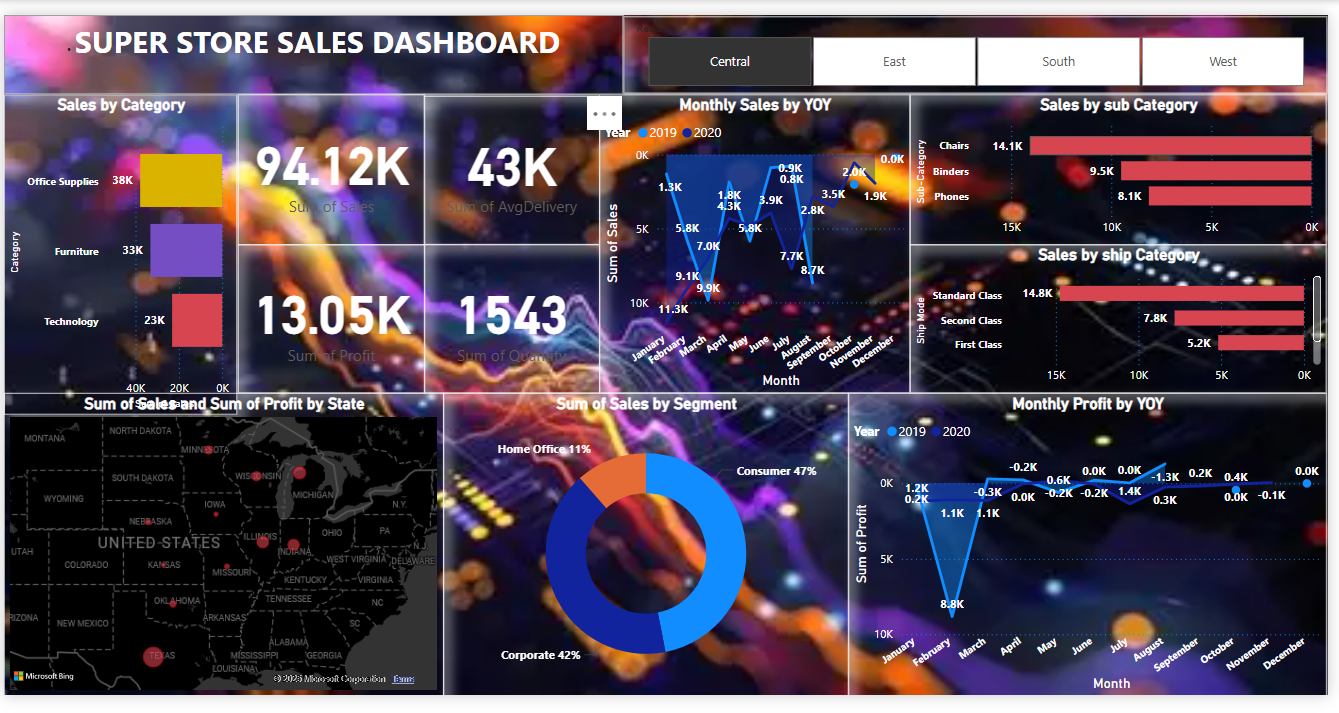

Layout of this report page (visuals, bound fields, positions):
{"tool":"powerbi","page":{"name":"Page 1","canvas":[1401,720],"ordinal":0},"visuals":[{"type":"clusteredBarChart","title":" Sales by Category","fields":{"Category":["SuperStore_Sales_Dataset.Category"],"Y":["Sum(SuperStore_Sales_Dataset.Sales)"]},"box":[0,83.7,246.9,338.8],"z":0},{"type":"clusteredBarChart","title":" Sales by sub Category","fields":{"Y":["Sum(SuperStore_Sales_Dataset.Sales)"],"Category":["SuperStore_Sales_Dataset.Sub-Category"]},"box":[959.2,83.7,440.8,159.2],"z":1000},{"type":"clusteredBarChart","title":" Sales by ship Category","fields":{"Y":["Sum(SuperStore_Sales_Dataset.Sales)"],"Category":["SuperStore_Sales_Dataset.Ship Mode"]},"box":[959.2,242.9,440.8,157.1],"z":2000},{"type":"areaChart","title":"Monthly Sales by YOY ","fields":{"Category":["SuperStore_Sales_Dataset.Order Date.Variation.Date Hierarchy.Month","SuperStore_Sales_Dataset.Order Date.Variation.Date Hierarchy.Day"],"Y":["Sum(SuperStore_Sales_Dataset.Sales)"],"Series":["SuperStore_Sales_Dataset.Order Date.Variation.Date Hierarchy.Year"]},"box":[630.6,83.7,328.6,316.3],"z":3000},{"type":"areaChart","title":"Monthly Profit by YOY ","fields":{"Category":["SuperStore_Sales_Dataset.Order Date.Variation.Date Hierarchy.Month","SuperStore_Sales_Dataset.Order Date.Variation.Date Hierarchy.Day"],"Series":["SuperStore_Sales_Dataset.Order Date.Variation.Date Hierarchy.Year"],"Y":["Sum(SuperStore_Sales_Dataset.Profit)"]},"box":[893.9,400,506.1,320.4],"z":4000},{"type":"map","fields":{"Category":["SuperStore_Sales_Dataset.State"],"Size":["Sum(SuperStore_Sales_Dataset.Sales)"]},"box":[0,400,465.3,320.4],"z":5000},{"type":"donutChart","fields":{"Category":["SuperStore_Sales_Dataset.Segment"],"Y":["Sum(SuperStore_Sales_Dataset.Sales)"]},"box":[465.3,400,428.6,320.4],"z":6000},{"type":"slicer","fields":{"Values":["SuperStore_Sales_Dataset.Region"]},"box":[655.1,2,744.9,81.6],"z":7000},{"type":"textbox","box":[0,0,655.1,83.7],"z":8000},{"type":"card","fields":{"Values":["Sum(SuperStore_Sales_Dataset.Sales)"]},"box":[246.9,83.7,198,159.2],"z":8001},{"type":"card","fields":{"Values":["Sum(SuperStore_Sales_Dataset.Profit)"]},"box":[246.9,242.9,198,157.1],"z":8002},{"type":"card","fields":{"Values":["Sum(SuperStore_Sales_Dataset.AvgDelivery)"]},"box":[444.9,85.7,185.7,157.1],"z":8003},{"type":"card","fields":{"Values":["Sum(SuperStore_Sales_Dataset.Quantity)"]},"box":[444.9,242.9,185.7,157.1],"z":8004}]}

Visuals, with their boxes in screenshot pixels (x1, y1, x2, y2):
" Sales by Category" clusteredBarChart: 0, 89, 233, 409
" Sales by sub Category" clusteredBarChart: 904, 89, 1320, 239
" Sales by ship Category" clusteredBarChart: 904, 239, 1320, 387
"Monthly Sales by YOY " areaChart: 594, 89, 904, 387
"Monthly Profit by YOY " areaChart: 843, 387, 1320, 689
map - SuperStore_Sales_Dataset.State x Sum(SuperStore_Sales_Dataset.Sales): 0, 387, 439, 689
donutChart - SuperStore_Sales_Dataset.Segment x Sum(SuperStore_Sales_Dataset.Sales): 439, 387, 843, 689
slicer - SuperStore_Sales_Dataset.Region: 617, 12, 1320, 89
textbox: 0, 10, 617, 89
card - Sum(SuperStore_Sales_Dataset.Sales): 233, 89, 419, 239
card - Sum(SuperStore_Sales_Dataset.Profit): 233, 239, 419, 387
card - Sum(SuperStore_Sales_Dataset.AvgDelivery): 419, 91, 594, 239
card - Sum(SuperStore_Sales_Dataset.Quantity): 419, 239, 594, 387
